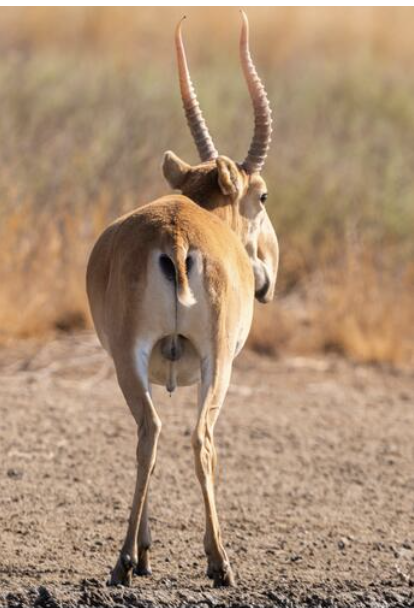saiga: (82, 13, 287, 592)
